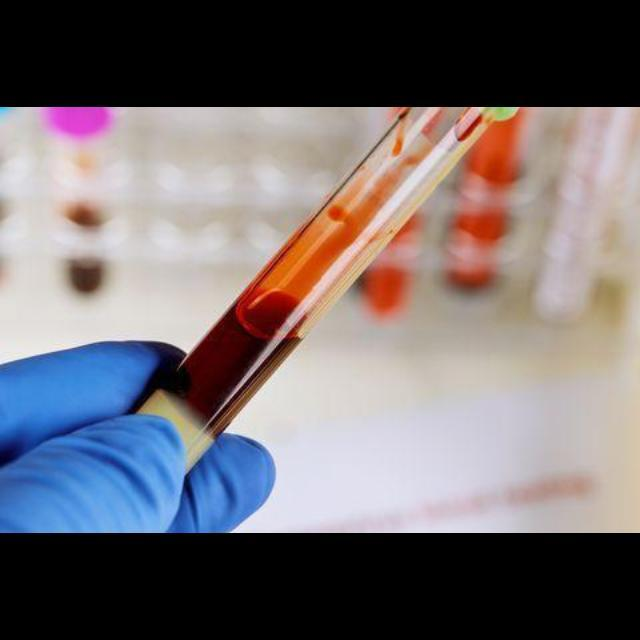blood: (168, 107, 515, 436)
